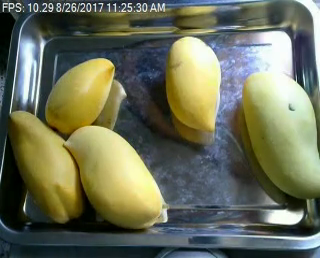Mango: (63, 125, 170, 229), (242, 72, 320, 199), (3, 110, 83, 223), (42, 55, 116, 130), (166, 36, 223, 133)
